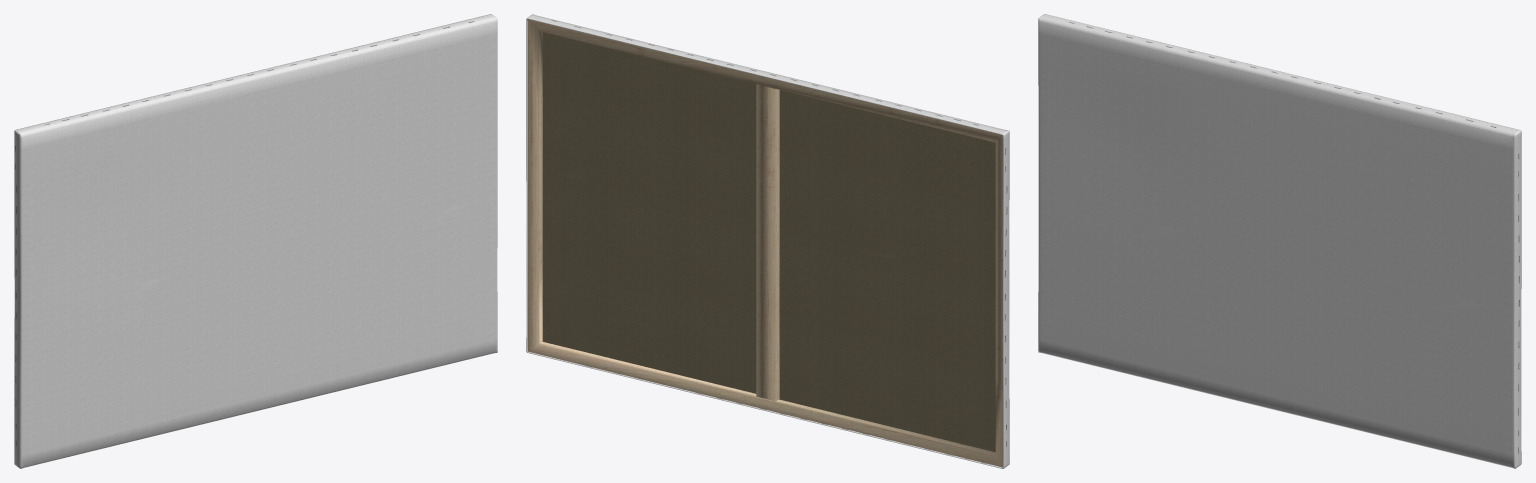
3 views of the same model, side by side, from view 1: azimuth 30°, elevation 25°; view 2: azimuth 150°, elevation 25°; view 3: azimuth 330°, elevation 25° (orthographic).
Visible parts, largest first — view 1: Object_2; view 2: Object_2; view 3: Object_2.
Part boxes in pixels (x1,y1,x2,y2): Object_2: (14,14,497,468); Object_2: (526,14,1009,468); Object_2: (1038,14,1521,468).
Bounding box in the file's own units: 1.3 × 0.8731 × 0.0318.
1 material, 1 textured.
